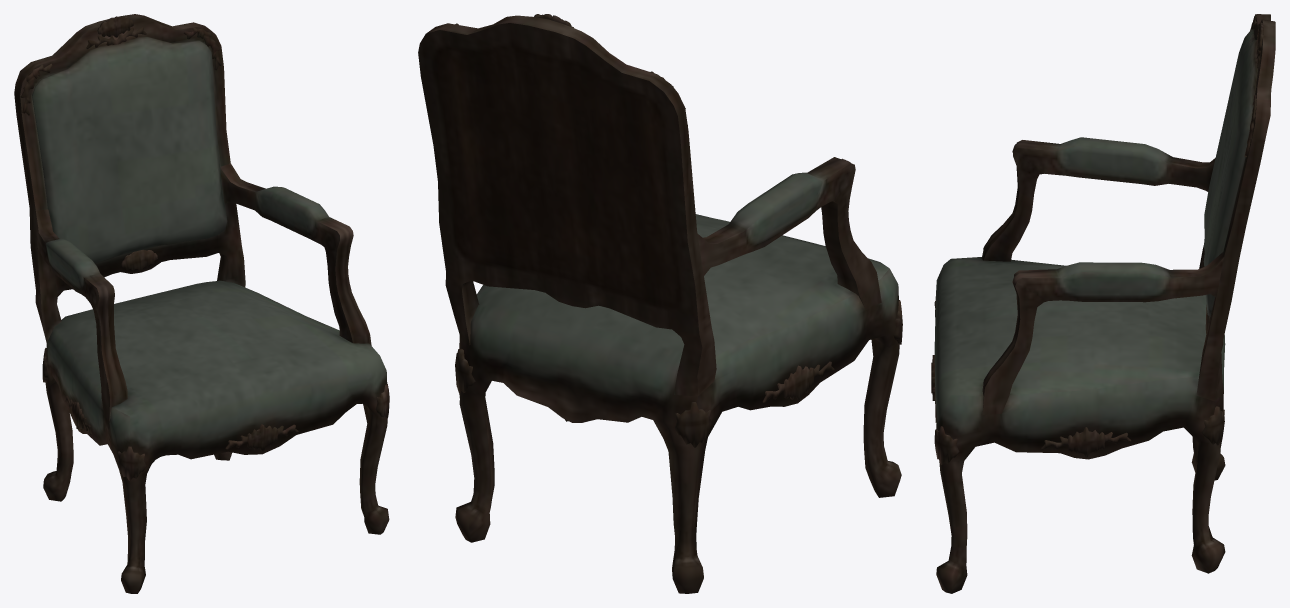
The model's file is lfc_green_hallway_chair.glb.
The picture shows the model from 3 angles, left to right: view 1: azimuth 30°, elevation 25°; view 2: azimuth 150°, elevation 25°; view 3: azimuth 270°, elevation 25°; orthographic projection. The views are drawn at different scales.
Parts seen in each view (by area): view 1: GreenChair_01; view 2: GreenChair_01; view 3: GreenChair_01.
Boxes of the visible parts, x1,y1,x2,y2 form: GreenChair_01: (14, 14, 389, 593); GreenChair_01: (418, 14, 902, 593); GreenChair_01: (931, 14, 1275, 593).
Bounding box in the file's own units: 0.6731 × 1.06 × 0.6644.
1 material, 1 textured.
